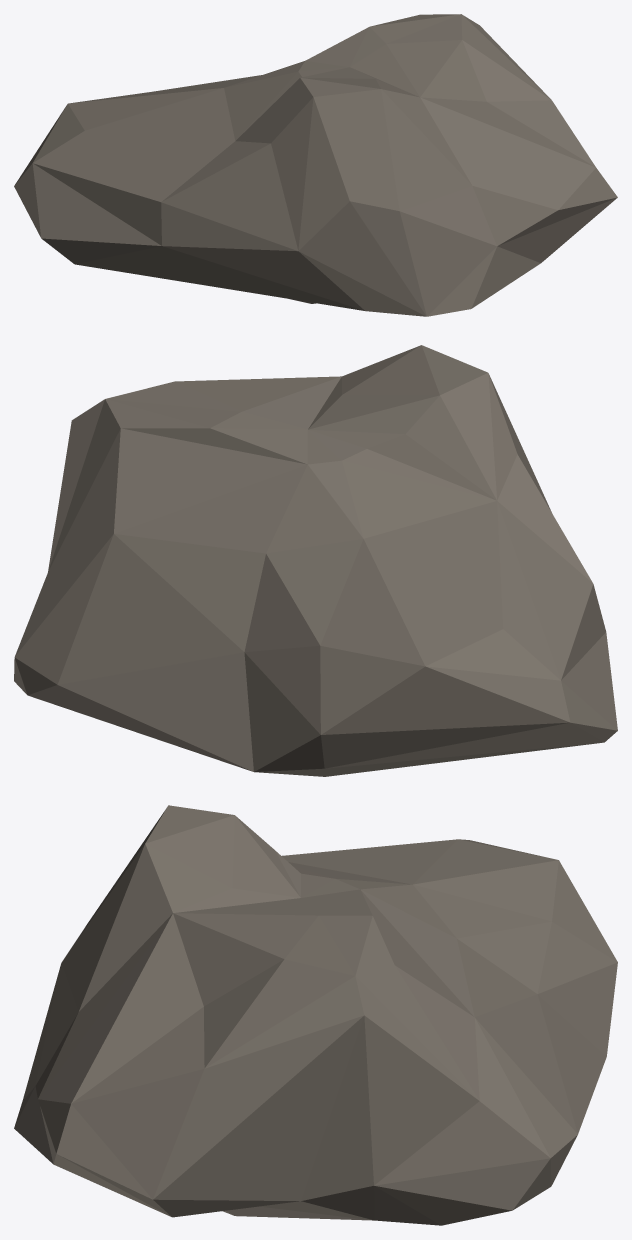
Rendered from SM_Env_Rock_01.glb.
3 views of the same model, one above another, from view 1: azimuth 30°, elevation 25°; view 2: azimuth 150°, elevation 25°; view 3: azimuth 270°, elevation 25° (orthographic). The views are drawn at different scales.
Parts seen in each view (by area): view 1: SM_Env_Rock_01_part00; view 2: SM_Env_Rock_01_part00; view 3: SM_Env_Rock_01_part00.
Part boxes in pixels (x1,y1,x2,y2): SM_Env_Rock_01_part00: (14, 14, 617, 316); SM_Env_Rock_01_part00: (14, 345, 617, 776); SM_Env_Rock_01_part00: (14, 805, 617, 1225).
Size of the model in its own units: 2.2 by 1.05 by 1.83.
Materials: 1 (1 with a texture image).
